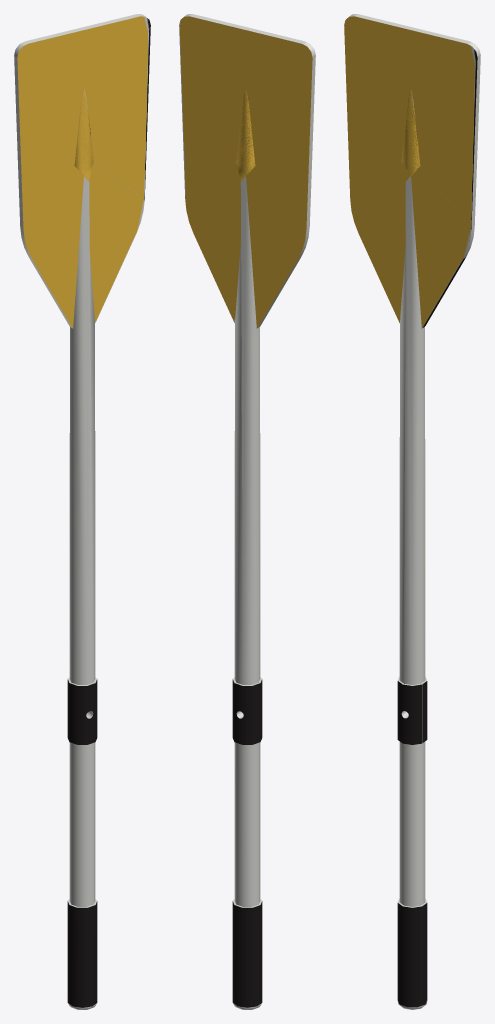
File: taycheo.fbx
3 renders of one model, left to right at view 1: azimuth 30°, elevation 25°; view 2: azimuth 150°, elevation 25°; view 3: azimuth 330°, elevation 25°, orthographic.
Visible parts, largest first — view 1: Fillet1; view 2: Fillet1; view 3: Fillet1.
Boxes of the visible parts, x1,y1,x2,y2 form: Fillet1: [14, 14, 150, 1009]; Fillet1: [179, 14, 315, 1009]; Fillet1: [344, 14, 480, 1009].
Size of the model in its own units: 0.7435 by 5.2 by 0.1457.
Materials: 1 (1 with a texture image).
